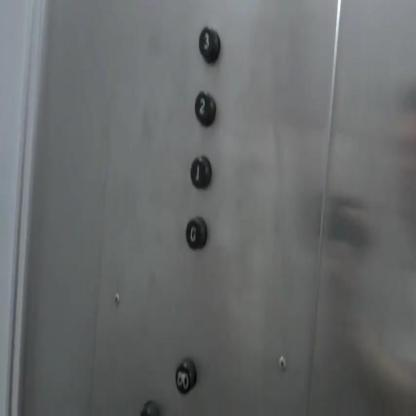1: (189, 152, 212, 190)
2: (192, 87, 216, 128)
3: (196, 24, 222, 68)
G: (184, 214, 207, 253)
unknown: (174, 357, 197, 394)
